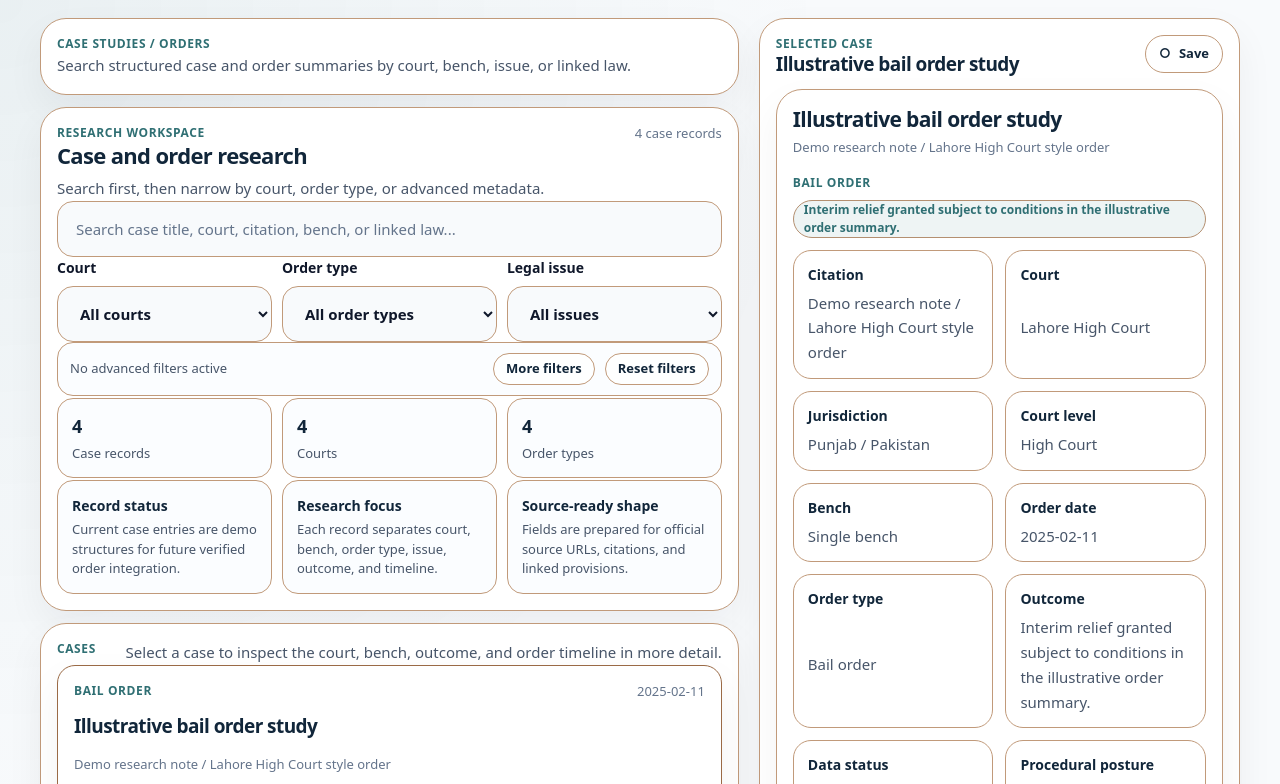
case studies page › saves the selected case record
This screenshot has width=1280, height=784.
Step 1. Click the button with aria-label "Save Illustrative bail order study" → (1184, 54), box top-left (1145, 35), bottom-right (1223, 73)
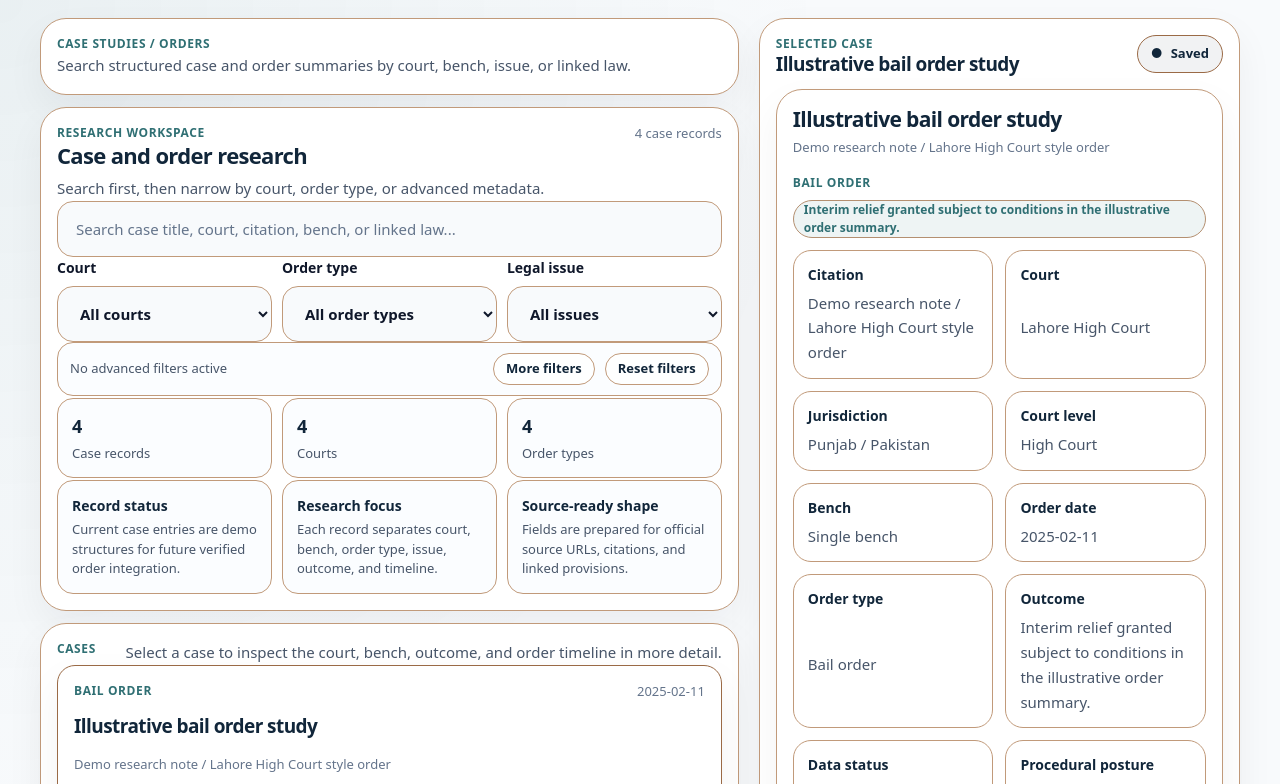
Check: the button with aria-label "Remove saved Illustrative bail order study" is shown, box top-left (1137, 35), bottom-right (1223, 73)
